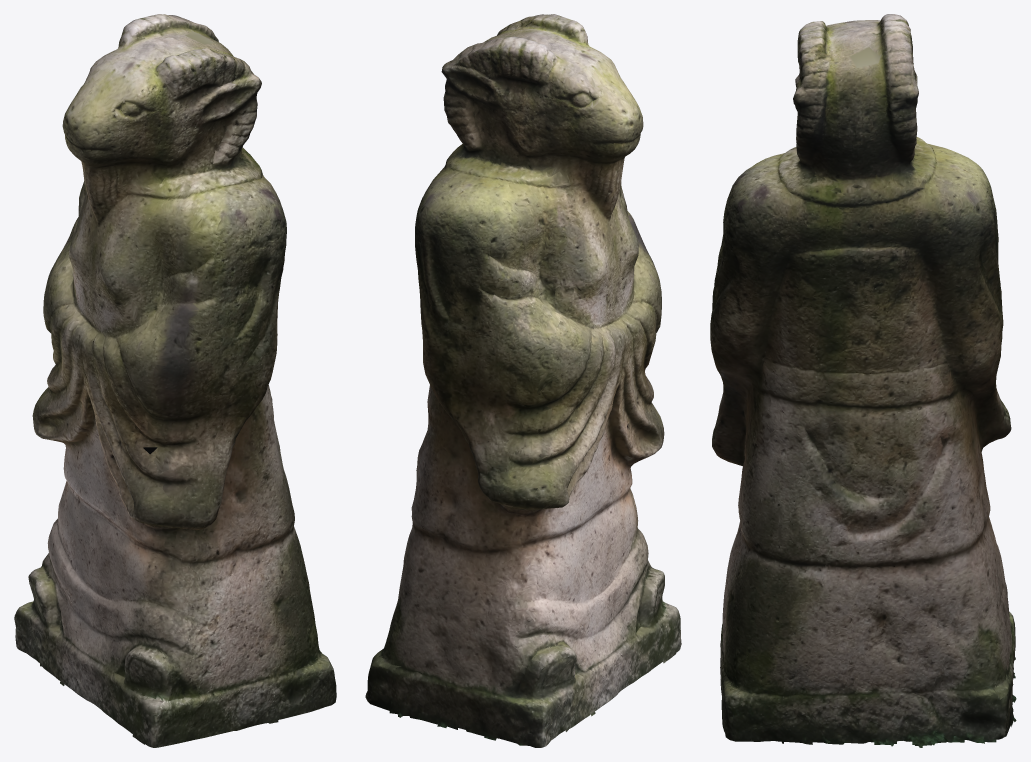
The picture shows the model from 3 angles, left to right: view 1: azimuth 30°, elevation 25°; view 2: azimuth 150°, elevation 25°; view 3: azimuth 270°, elevation 25°; orthographic projection. The views are drawn at different scales.
Parts seen in each view (by area): view 1: test; view 2: test; view 3: test.
Part boxes in pixels (left/top/right/bottom): test: left=14, top=14, right=336, bottom=747; test: left=365, top=14, right=681, bottom=747; test: left=710, top=14, right=1016, bottom=747.
Size of the model in its own units: 7.82 by 22.72 by 9.43.
Materials: 1 (1 with a texture image).
